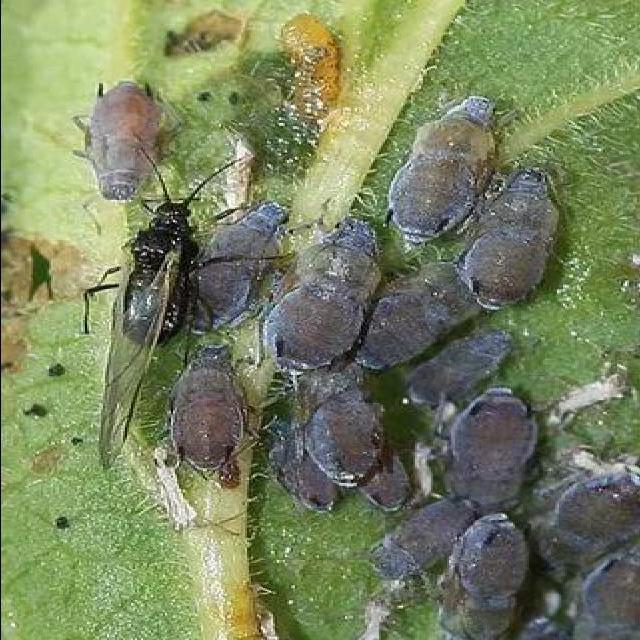aphid: (364, 82, 526, 235), (453, 157, 594, 316), (350, 260, 488, 374), (288, 217, 389, 366), (71, 78, 183, 204), (164, 340, 256, 489), (294, 374, 397, 498), (441, 388, 539, 510), (443, 512, 531, 640), (535, 467, 640, 573)
